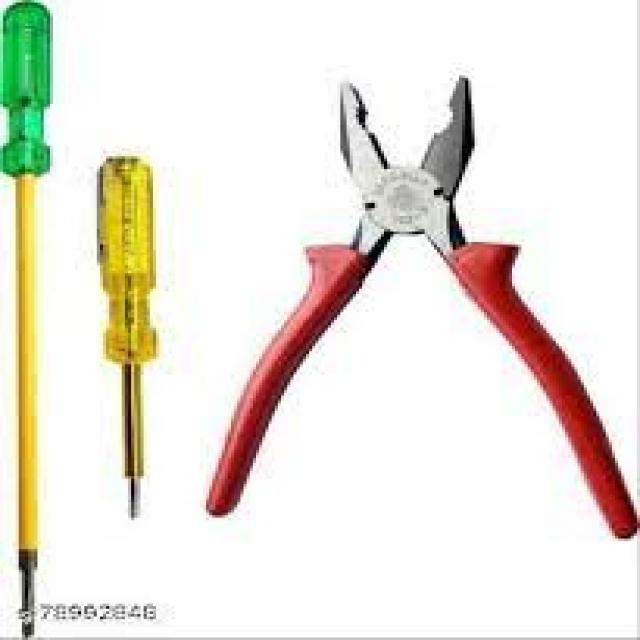Screwdriver: (0, 0, 51, 639), (99, 156, 156, 518)
